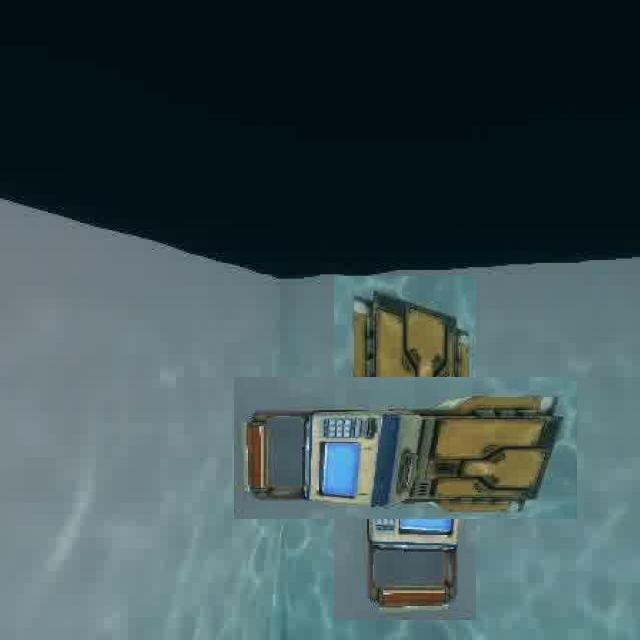Control Panel: (284, 326, 526, 570)
